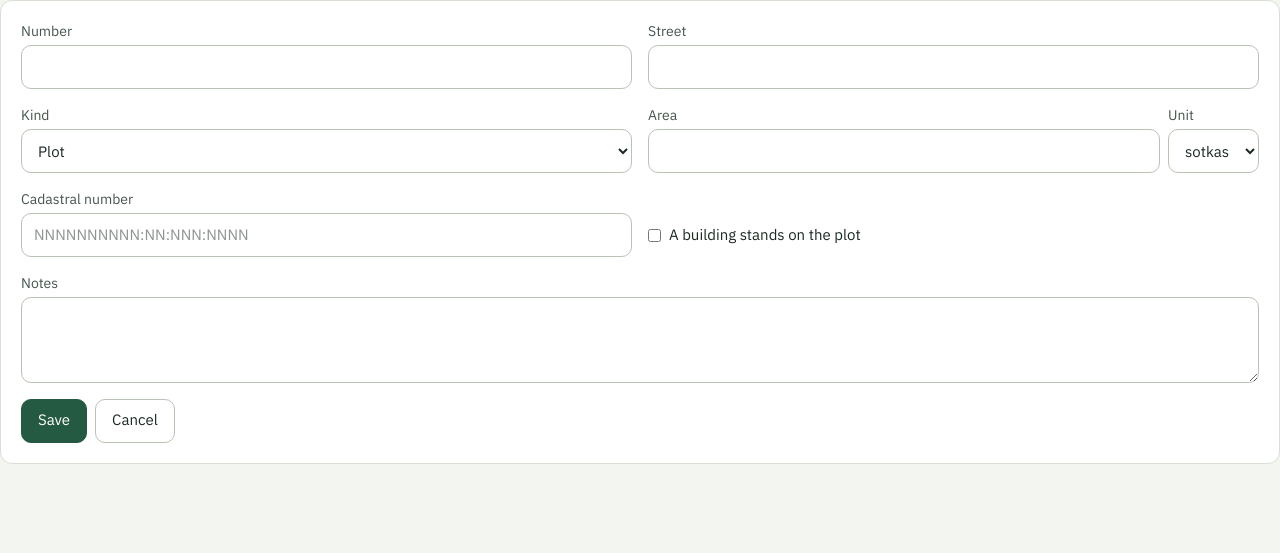
Test: PlotForm › checks required fields, cadastral format and a positive plot area on the client
Type "123" into the field labelled "Cadastral number".
click(326, 235); type("123")  # box [21,213,632,257]
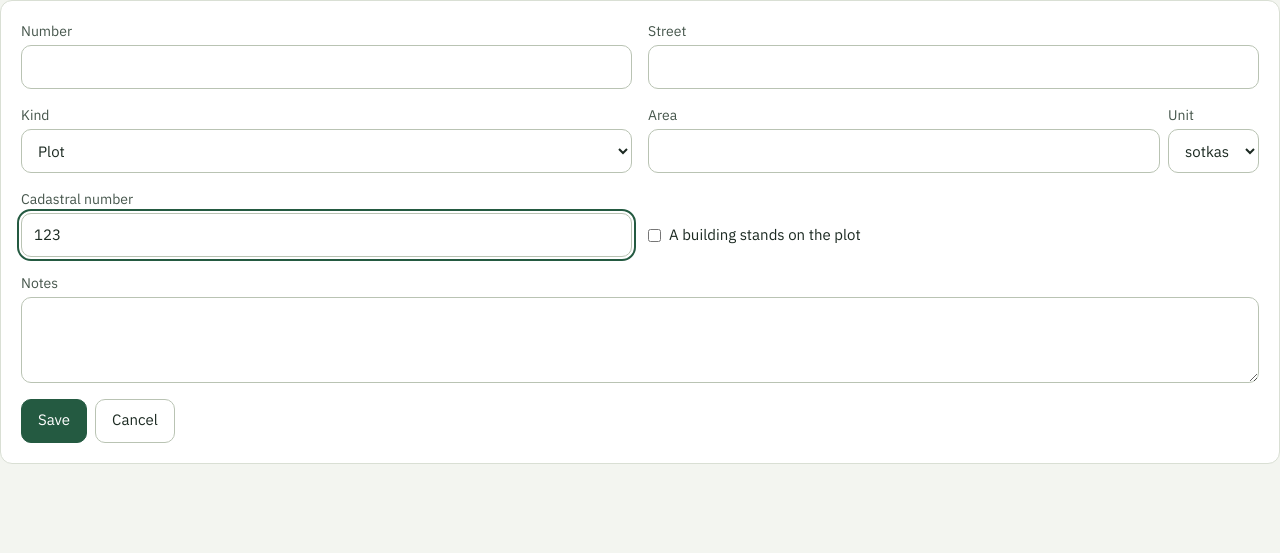
Type "0" into the field labelled "Area".
click(904, 151); type("0")  # box [648,129,1160,173]
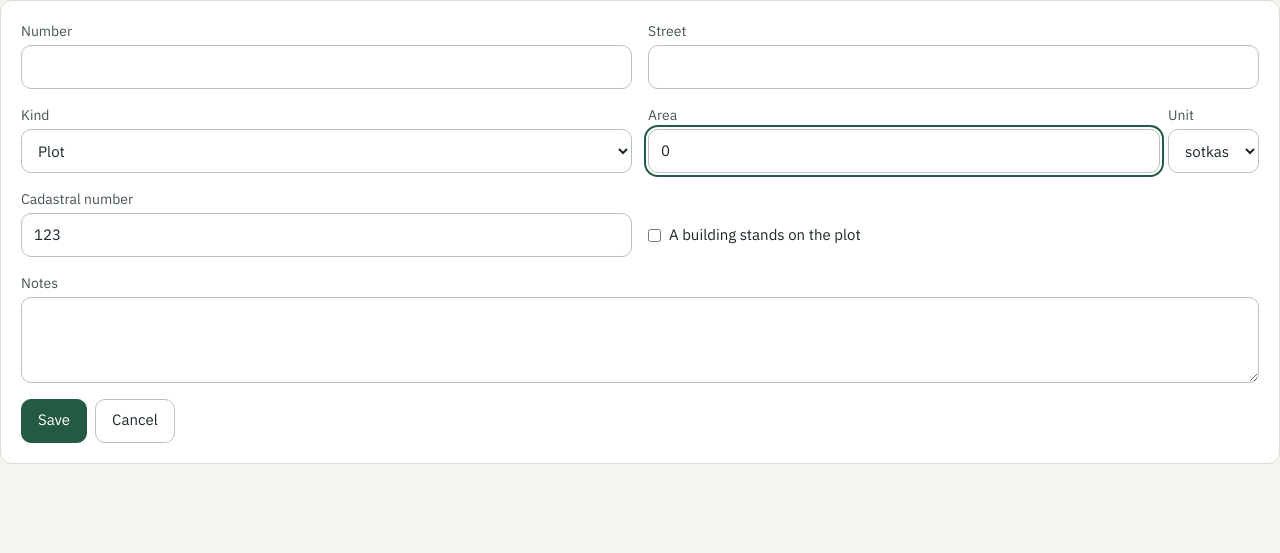
Click the button "Save".
click(54, 420)  # box [21,398,87,442]
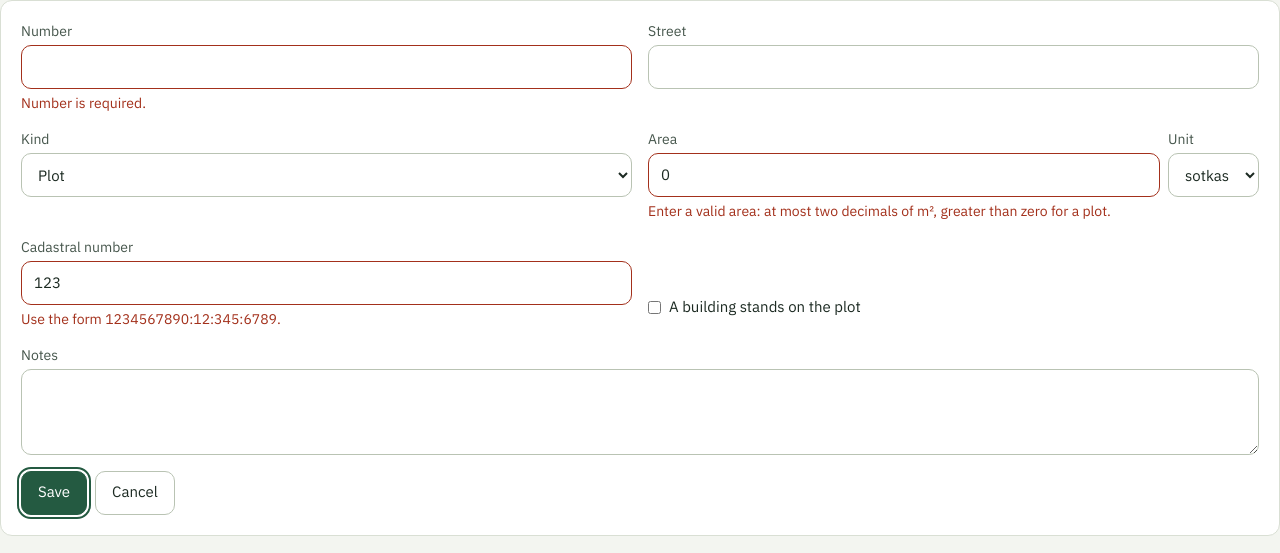
Now the text "Number is required." is shown, box [21,94,146,112]
Now the text "Use the form 1234567890:12:345:6789." is shown, box [21,310,281,328]
Now the text "Enter a valid area: at most two decimals of m², greater than zero for a plot." is shown, box [648,201,1160,221]
